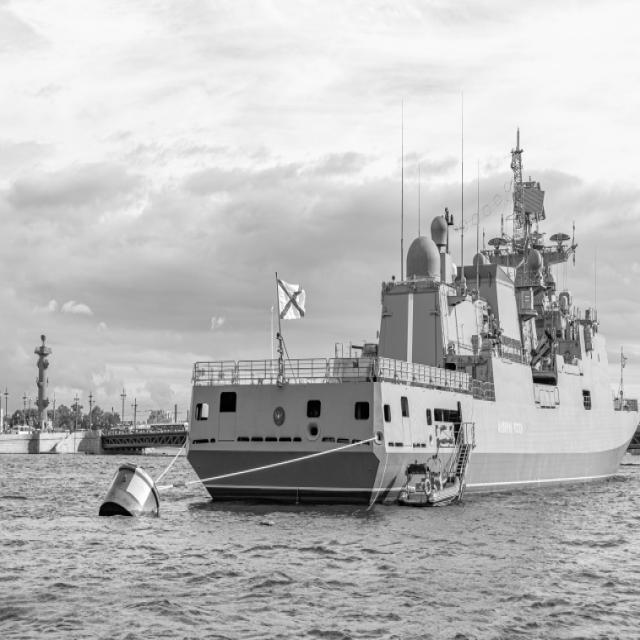Fragata: (182, 117, 640, 510)
